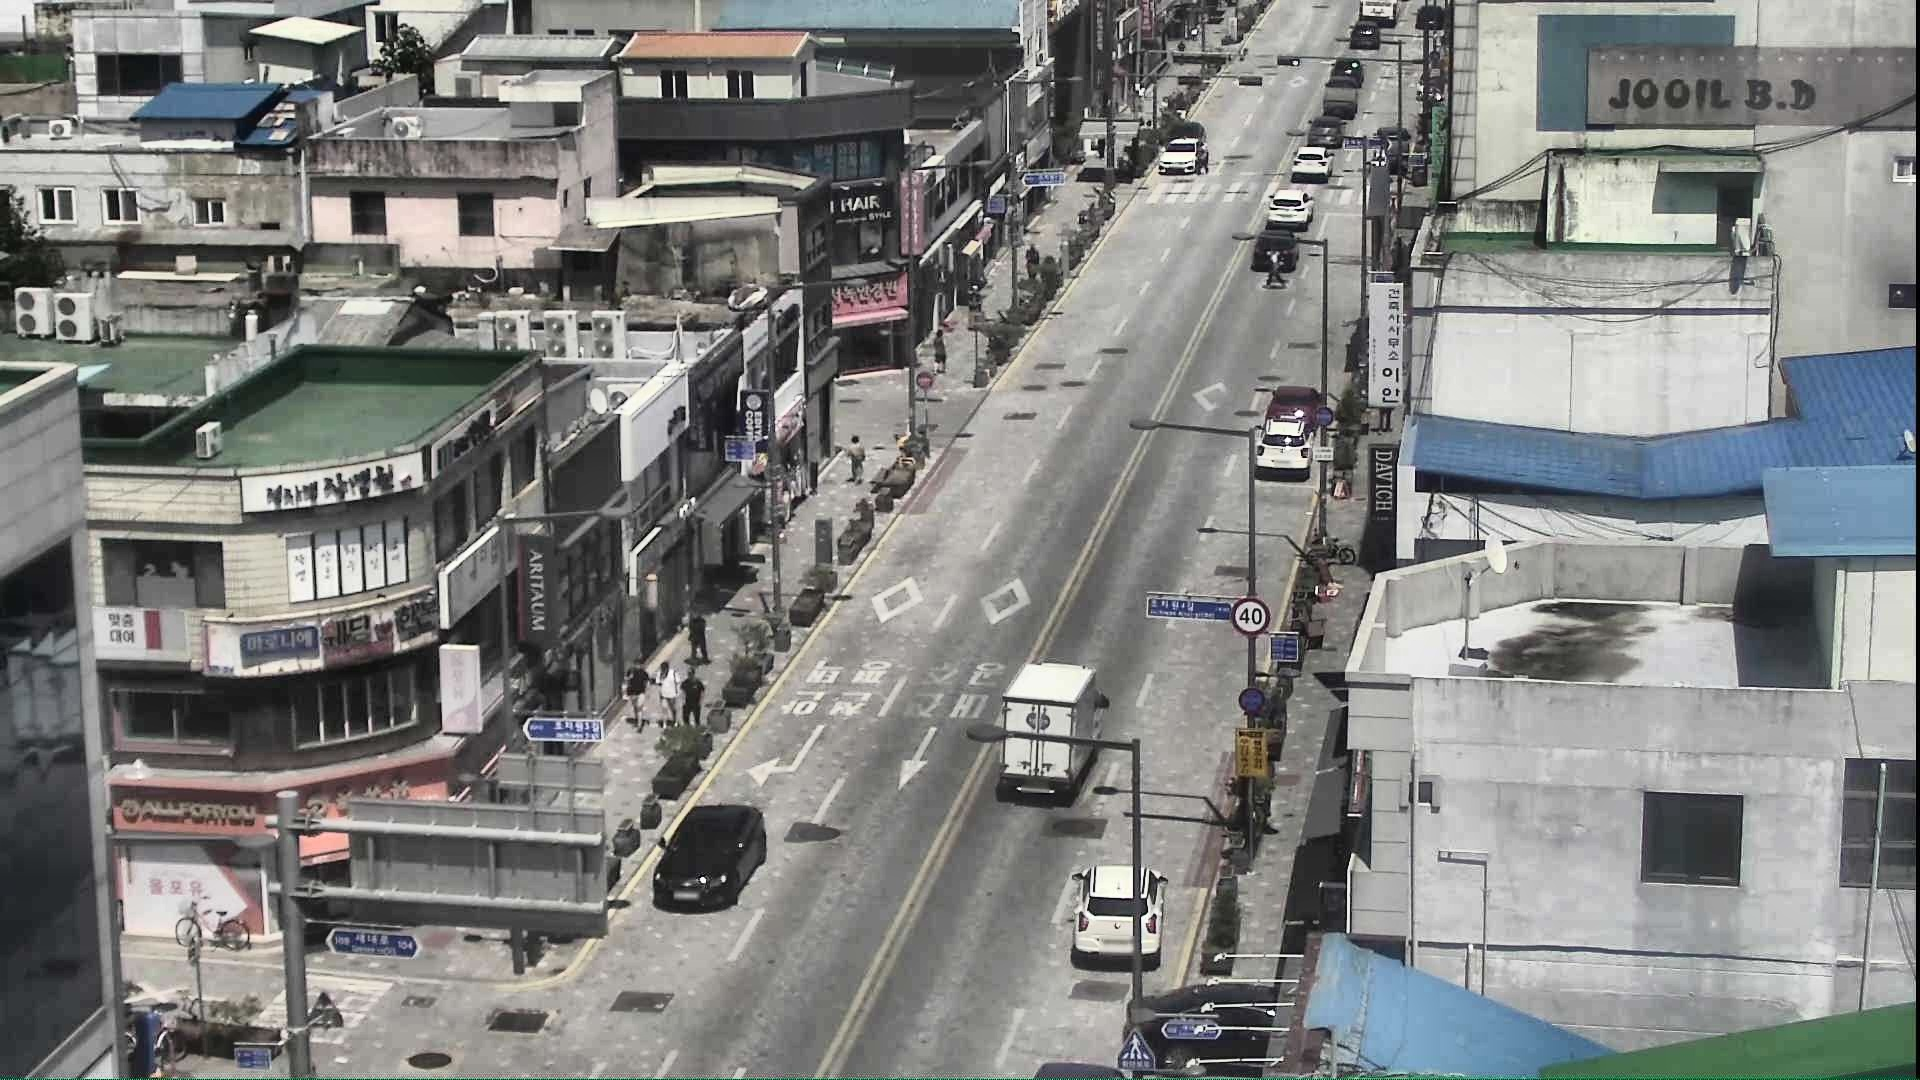jaywalk: (1266, 248, 1284, 289)
sidewalk: (625, 659, 646, 731), (655, 662, 676, 731), (683, 669, 702, 727), (967, 285, 986, 328), (928, 328, 947, 375), (847, 436, 862, 487), (1026, 241, 1040, 287), (1137, 84, 1149, 111)
um_sidewalk: (680, 599, 713, 663)
